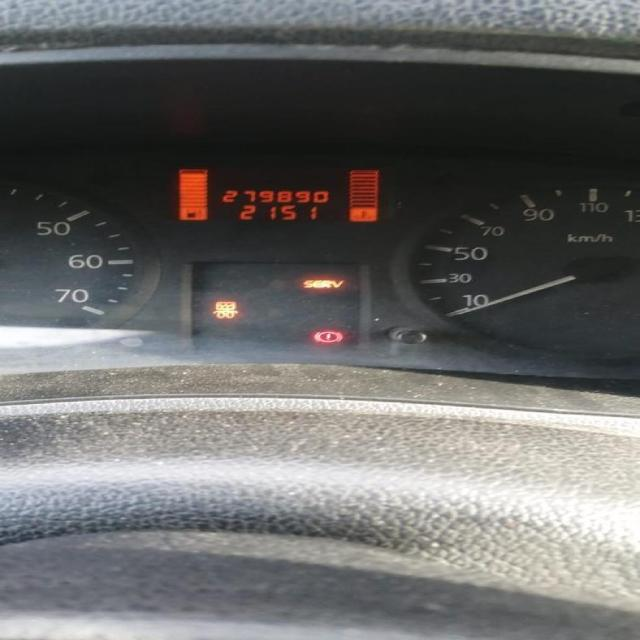odometer: (162, 162, 396, 224)
